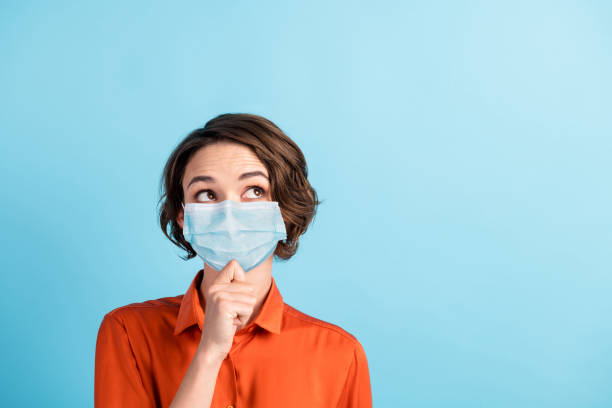with mask: (154, 98, 312, 283)
